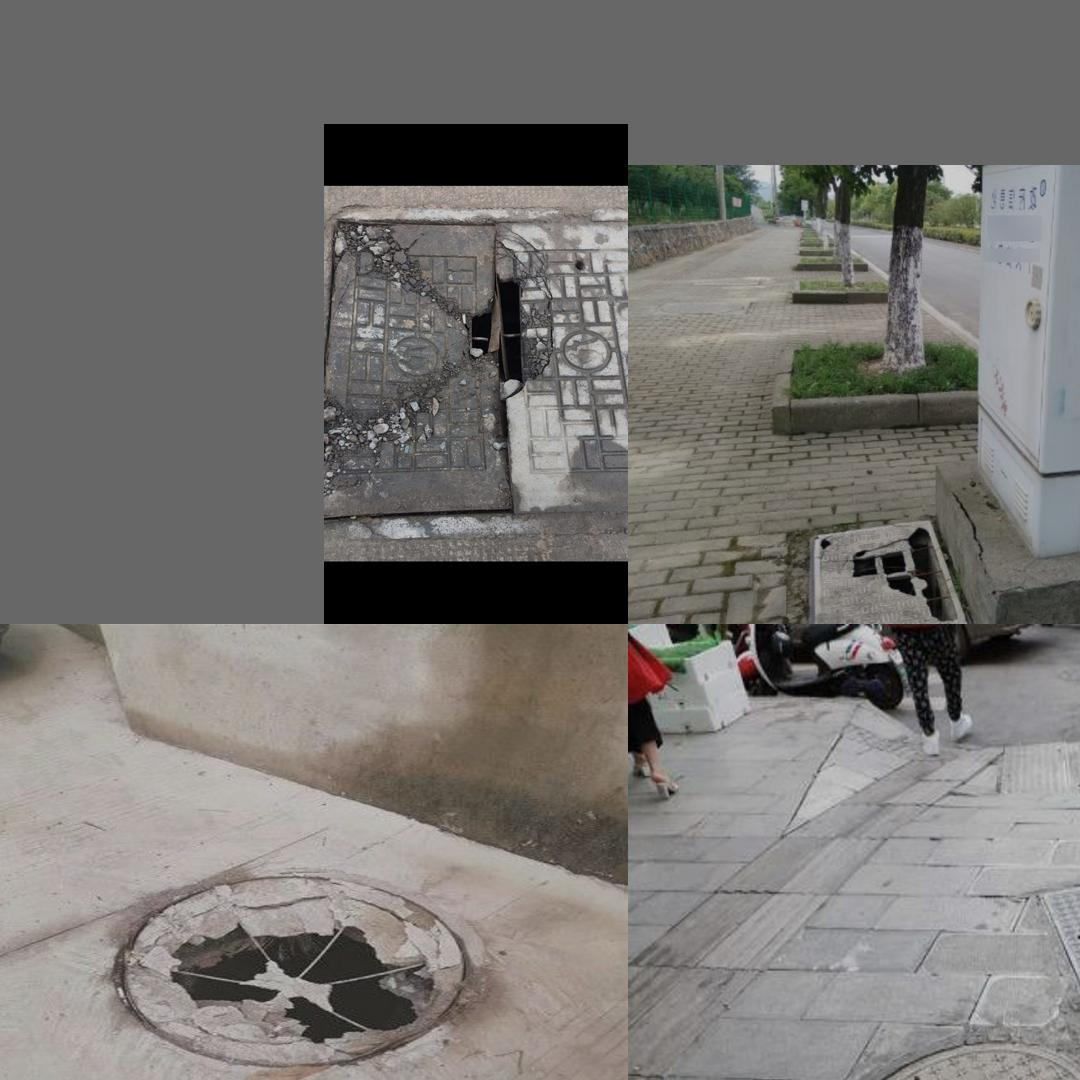broke: (324, 204, 624, 546), (81, 855, 524, 1080), (802, 517, 975, 624)
